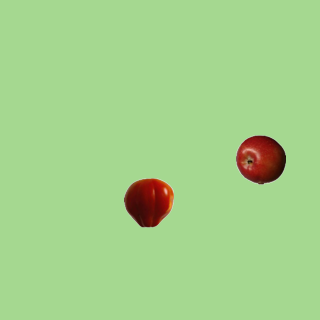Apple Braeburn: (235, 134, 285, 184)
Tomato 1: (123, 177, 173, 227)
